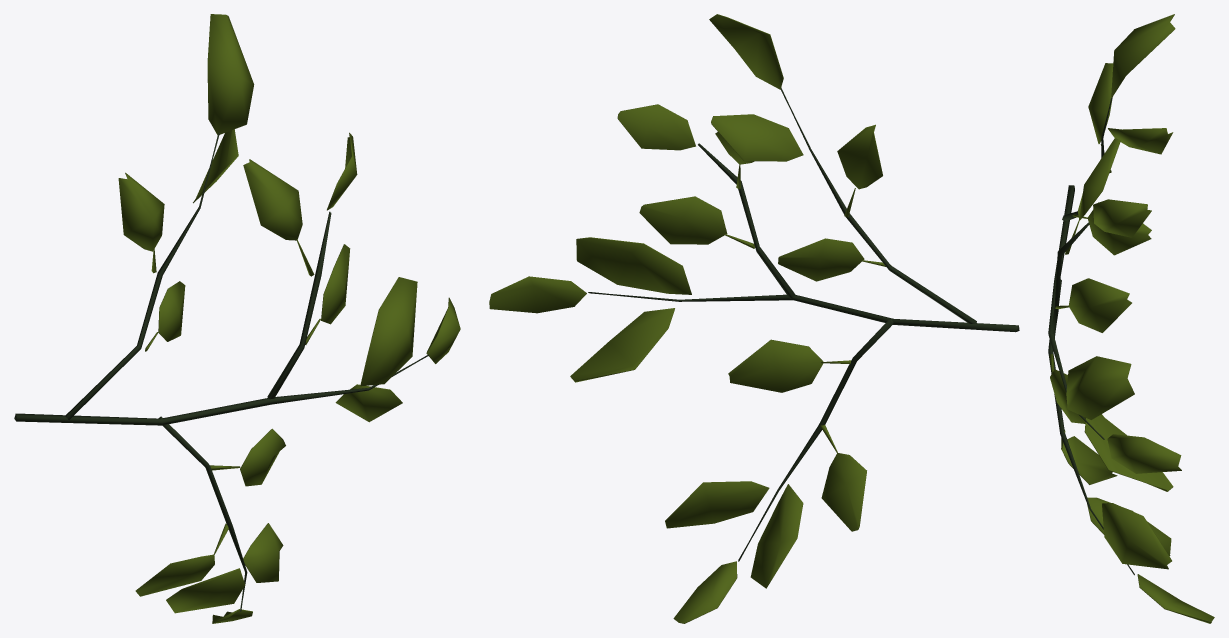
The model's file is tree_LargeTwig.obj.
The picture shows the model from 3 angles, left to right: view 1: azimuth 30°, elevation 25°; view 2: azimuth 150°, elevation 25°; view 3: azimuth 270°, elevation 25°; orthographic projection. The views are drawn at different scales.
Visible parts, largest first — view 1: LargeTwig_LargeTwig_Leaf, LargeTwig_LargeTwig_Twig; view 2: LargeTwig_LargeTwig_Leaf, LargeTwig_LargeTwig_Twig; view 3: LargeTwig_LargeTwig_Leaf, LargeTwig_LargeTwig_Twig.
Boxes of the visible parts, <box> form: LargeTwig_LargeTwig_Leaf: <box>118,14,460,623</box>; LargeTwig_LargeTwig_Twig: <box>14,132,428,611</box>; LargeTwig_LargeTwig_Leaf: <box>489,14,891,623</box>; LargeTwig_LargeTwig_Twig: <box>588,87,1019,561</box>; LargeTwig_LargeTwig_Leaf: <box>1049,14,1214,623</box>; LargeTwig_LargeTwig_Twig: <box>1048,97,1134,575</box>.
Size of the model in its own units: 0.7499 by 0.9043 by 0.2293.
